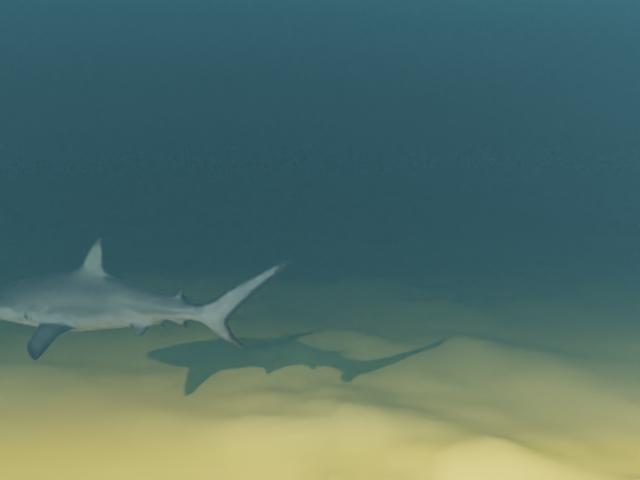Carribean Shark.001: (0, 237, 292, 360)
